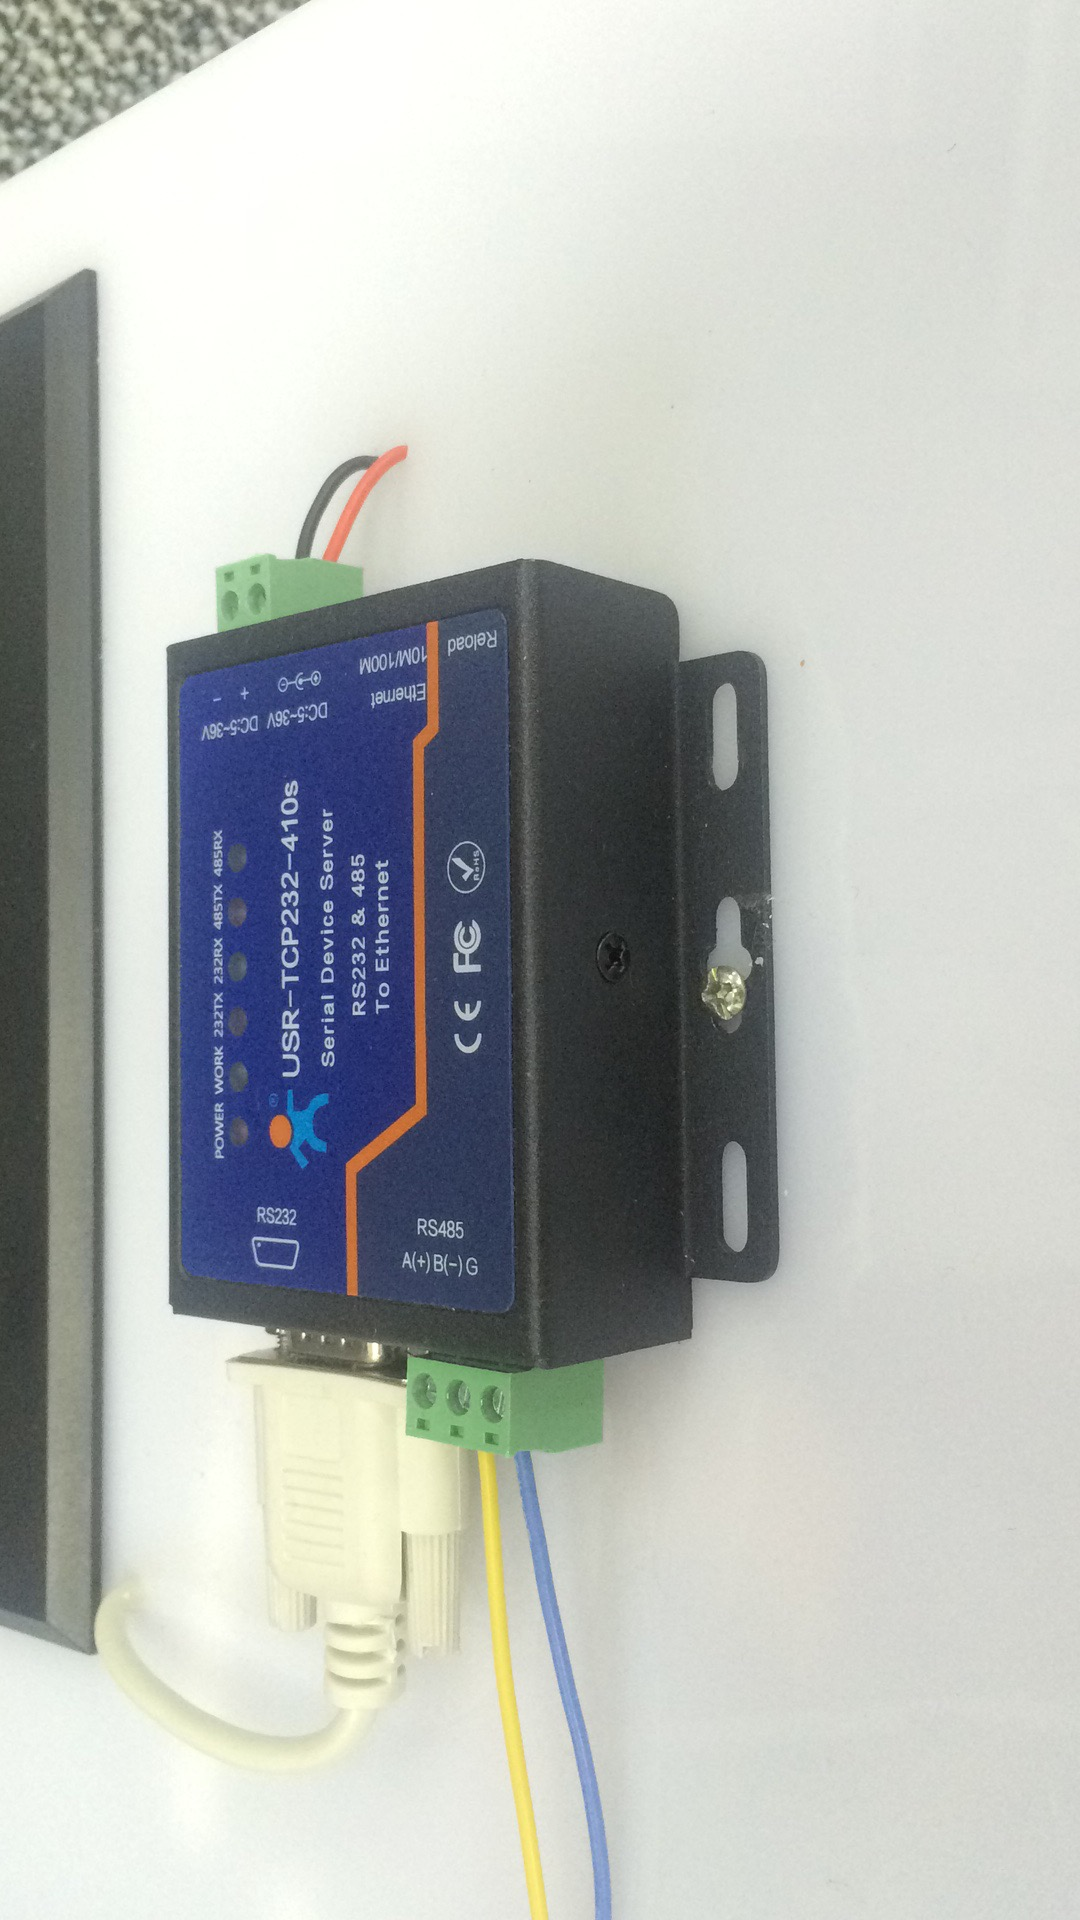modbus bridge: (131, 553, 803, 1472)
